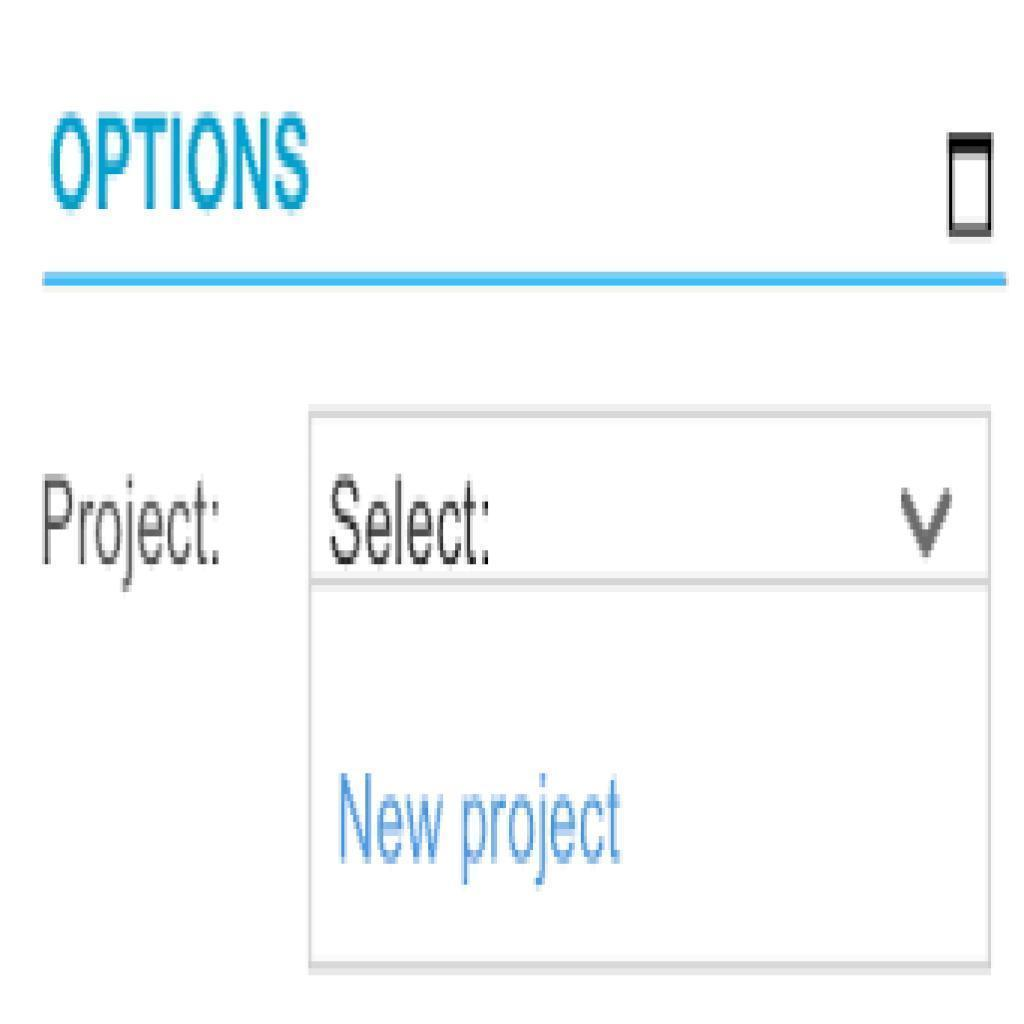checkbox: (953, 137, 992, 224)
dropdown: (308, 412, 988, 581)
label: (34, 465, 230, 580)
